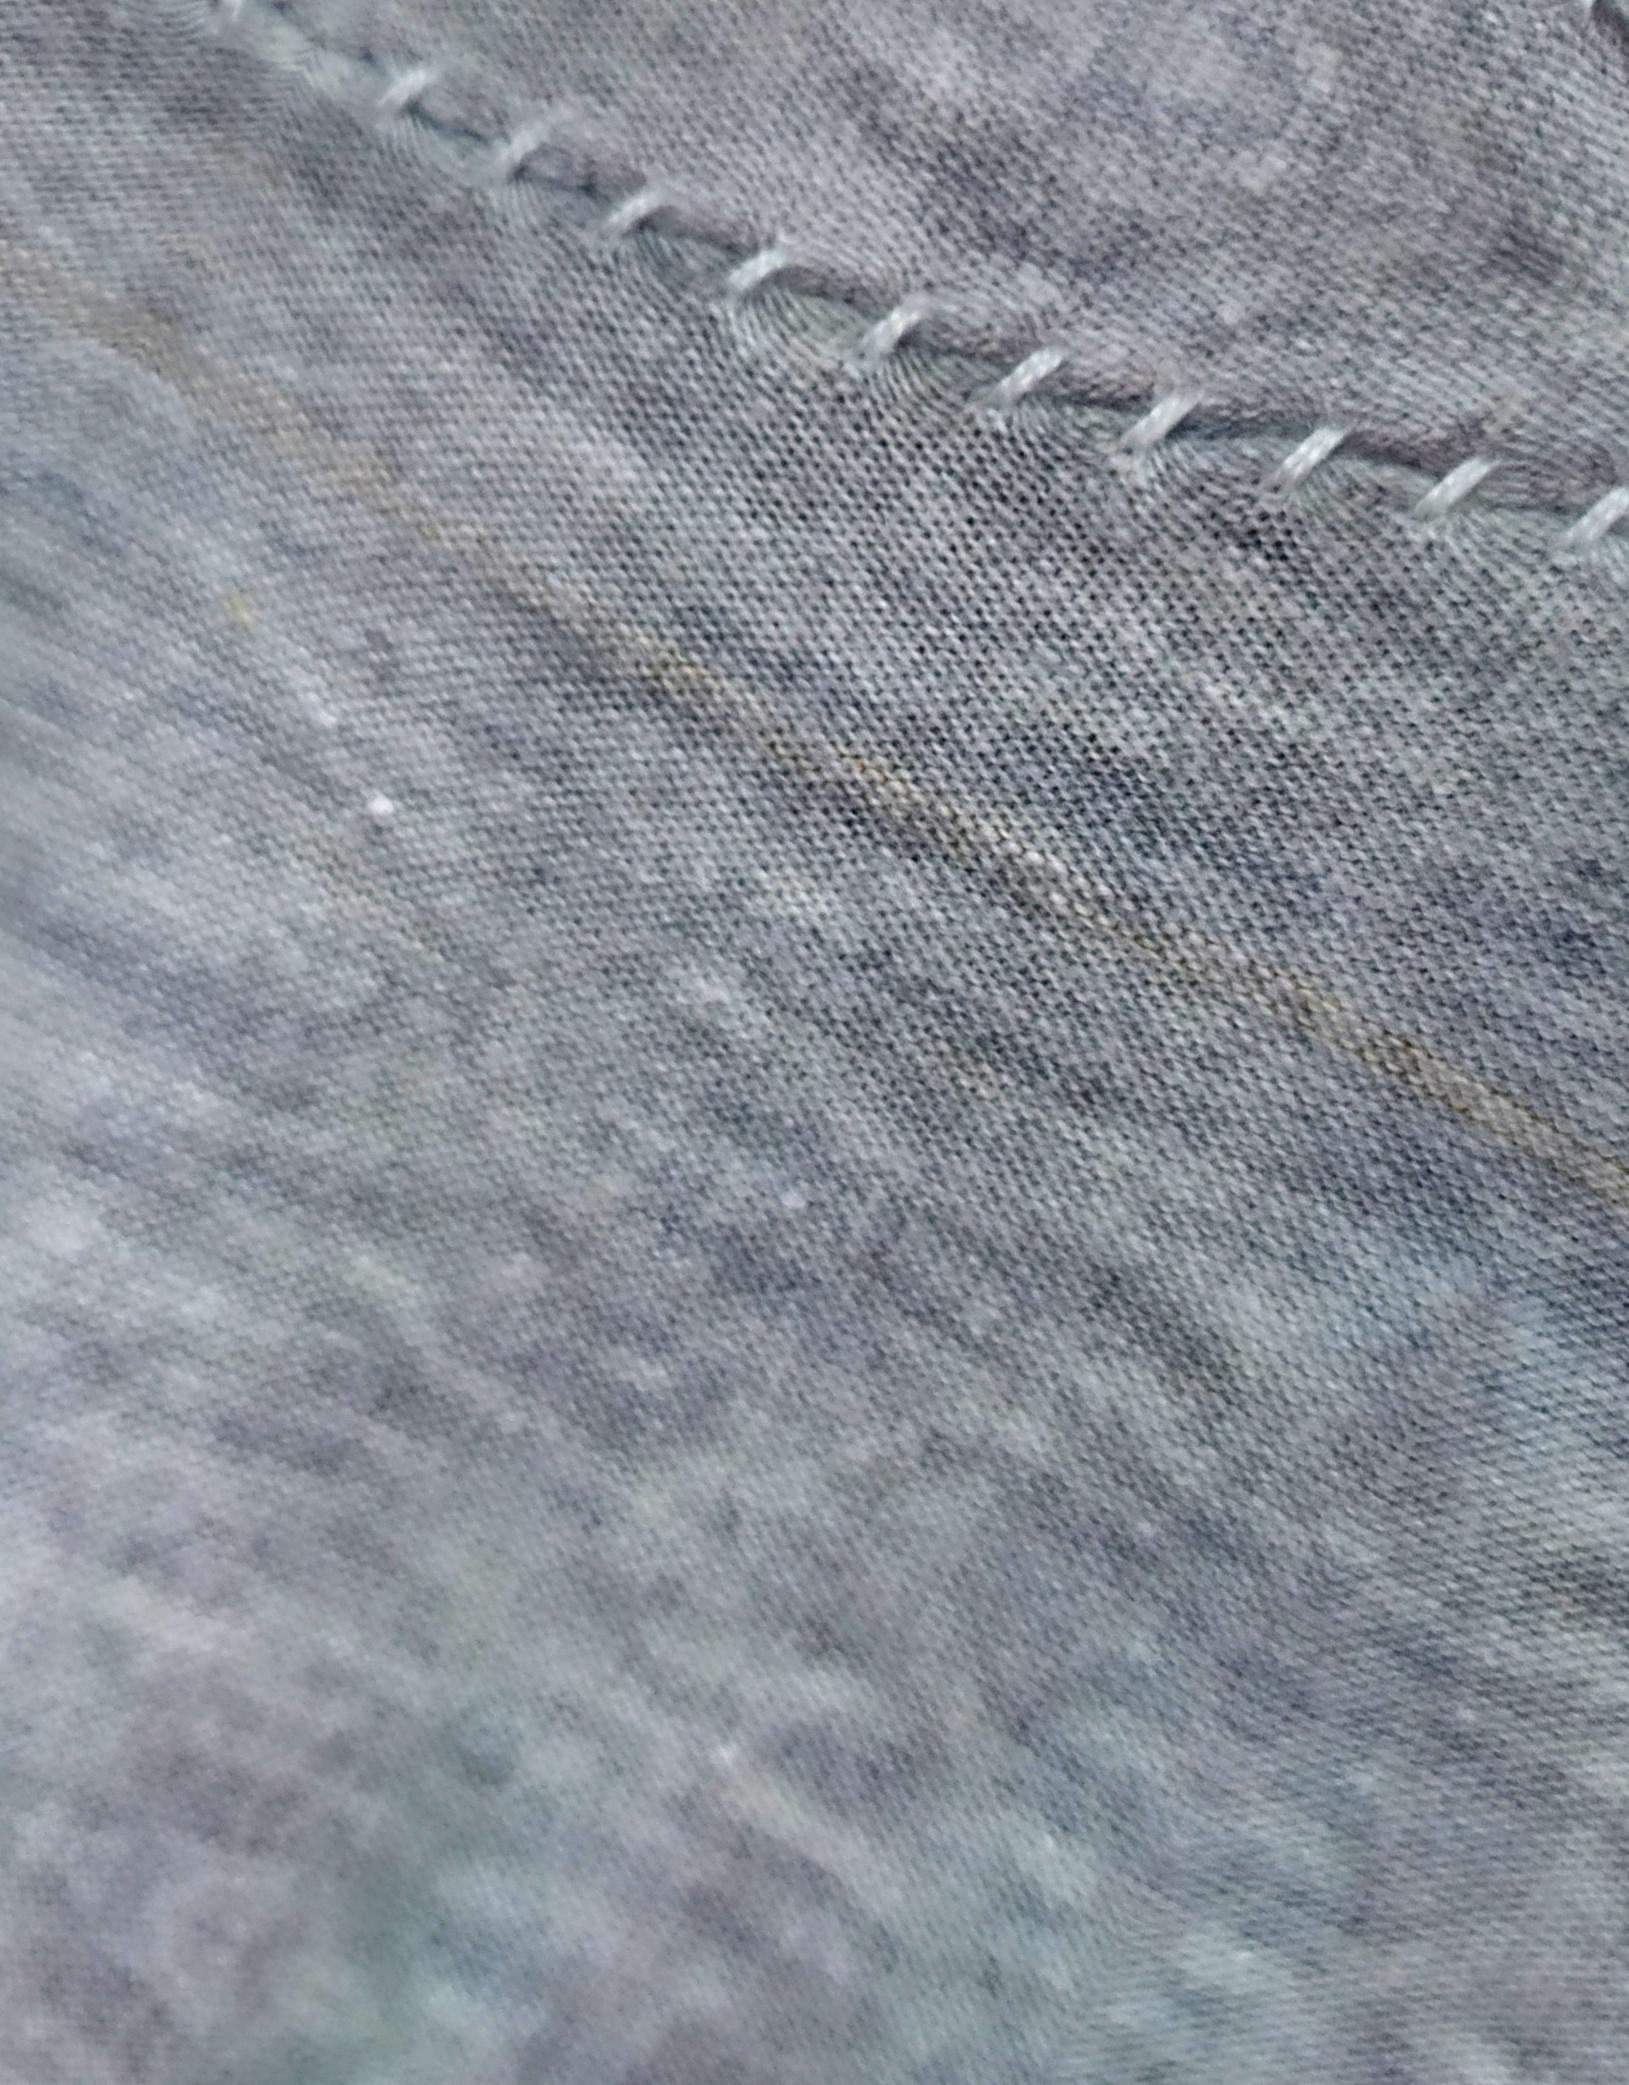slub: (205, 5, 1629, 582)
